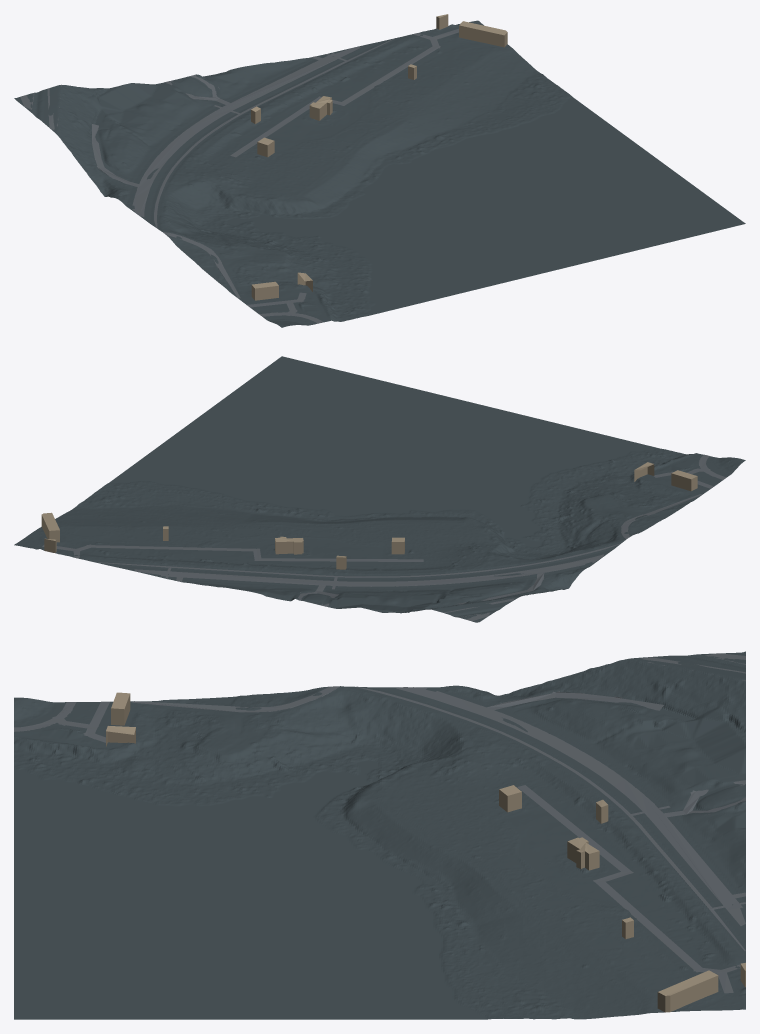
Rendered from epsg26910-1417-10871.lod0.glb.
3 views of the same model, one above another, from view 1: azimuth 30°, elevation 25°; view 2: azimuth 150°, elevation 25°; view 3: azimuth 270°, elevation 25° (orthographic). The views are drawn at different scales.
Parts seen in each view (by area): view 1: epsg26910-1417-10871-lod0; view 2: epsg26910-1417-10871-lod0; view 3: epsg26910-1417-10871-lod0.
Part boxes in pixels (x1,y1,x2,y2): epsg26910-1417-10871-lod0: [14, 14, 745, 327]; epsg26910-1417-10871-lod0: [14, 356, 745, 622]; epsg26910-1417-10871-lod0: [14, 651, 745, 1019].
Size of the model in its own units: 384 by 35.45 by 384.
